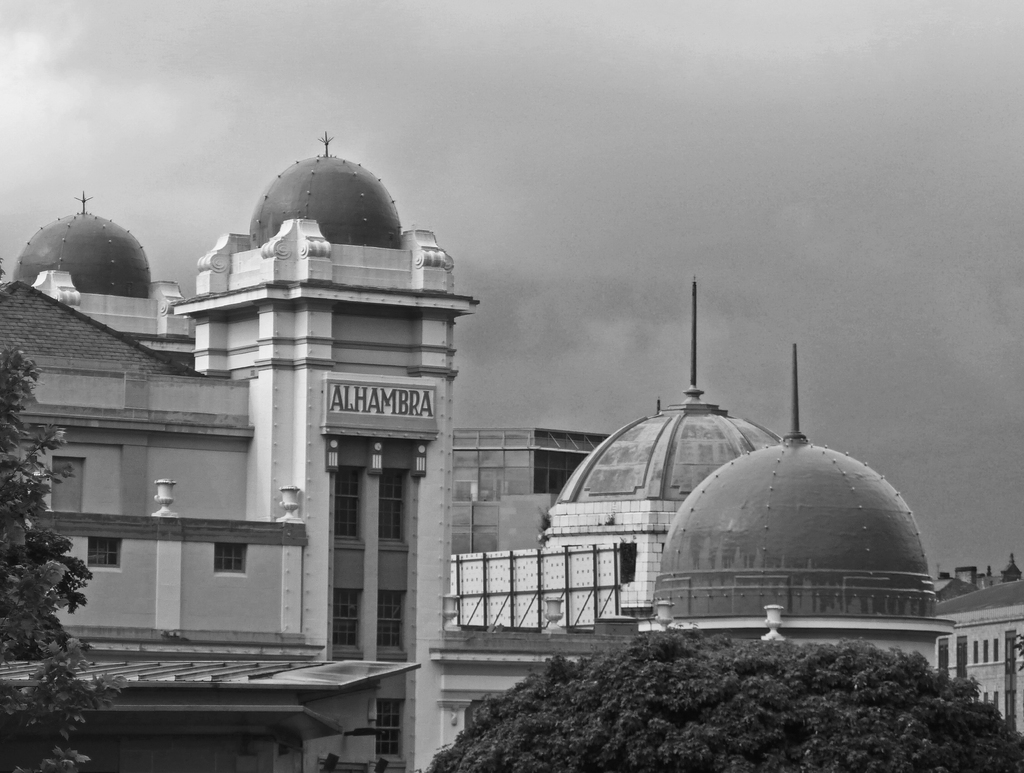Tree: (409, 621, 1023, 772), (0, 347, 131, 773)
